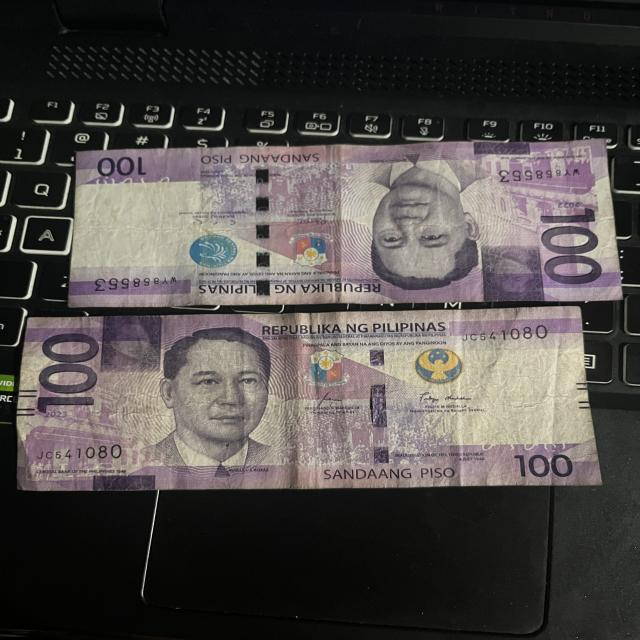concealed_value: (476, 242, 553, 303), (102, 315, 164, 373)
security_thread: (365, 309, 397, 491), (252, 143, 272, 302)
serial_number: (448, 322, 565, 348), (85, 269, 185, 293), (32, 440, 127, 465), (494, 164, 590, 182)
value: (27, 326, 105, 419), (531, 198, 610, 288)
watermark: (84, 186, 188, 268), (452, 353, 560, 428)
